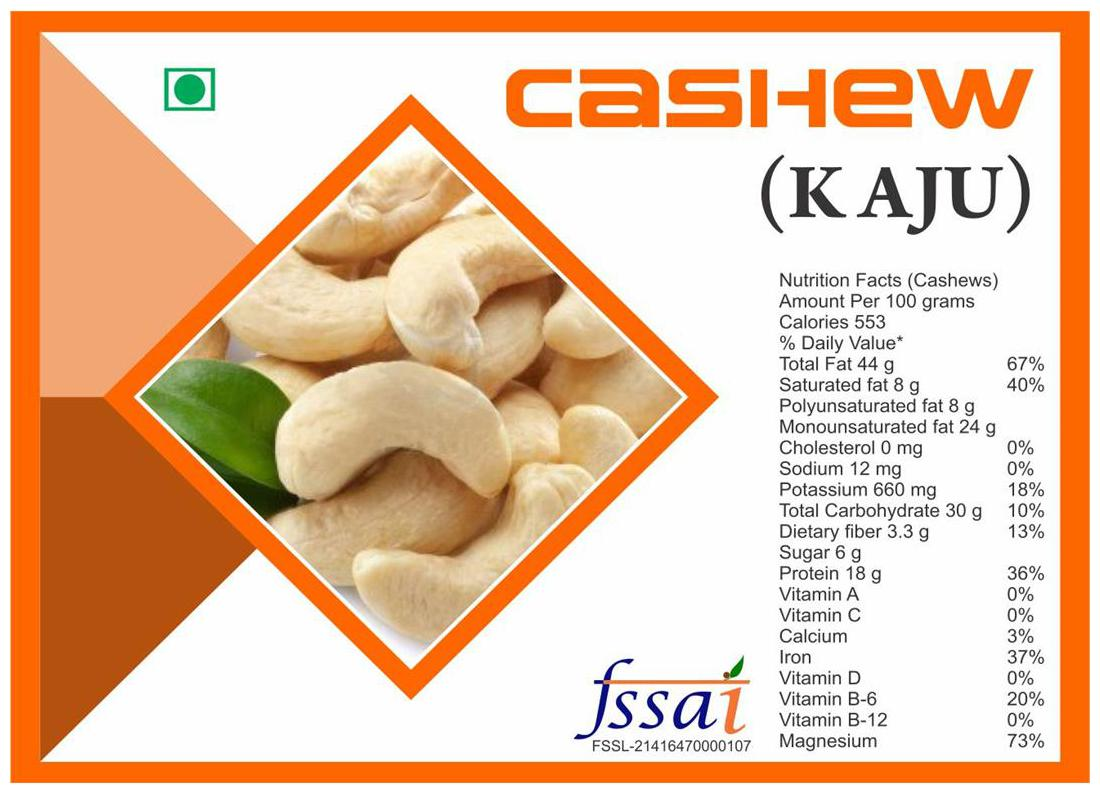fssai: (570, 655, 750, 735)
